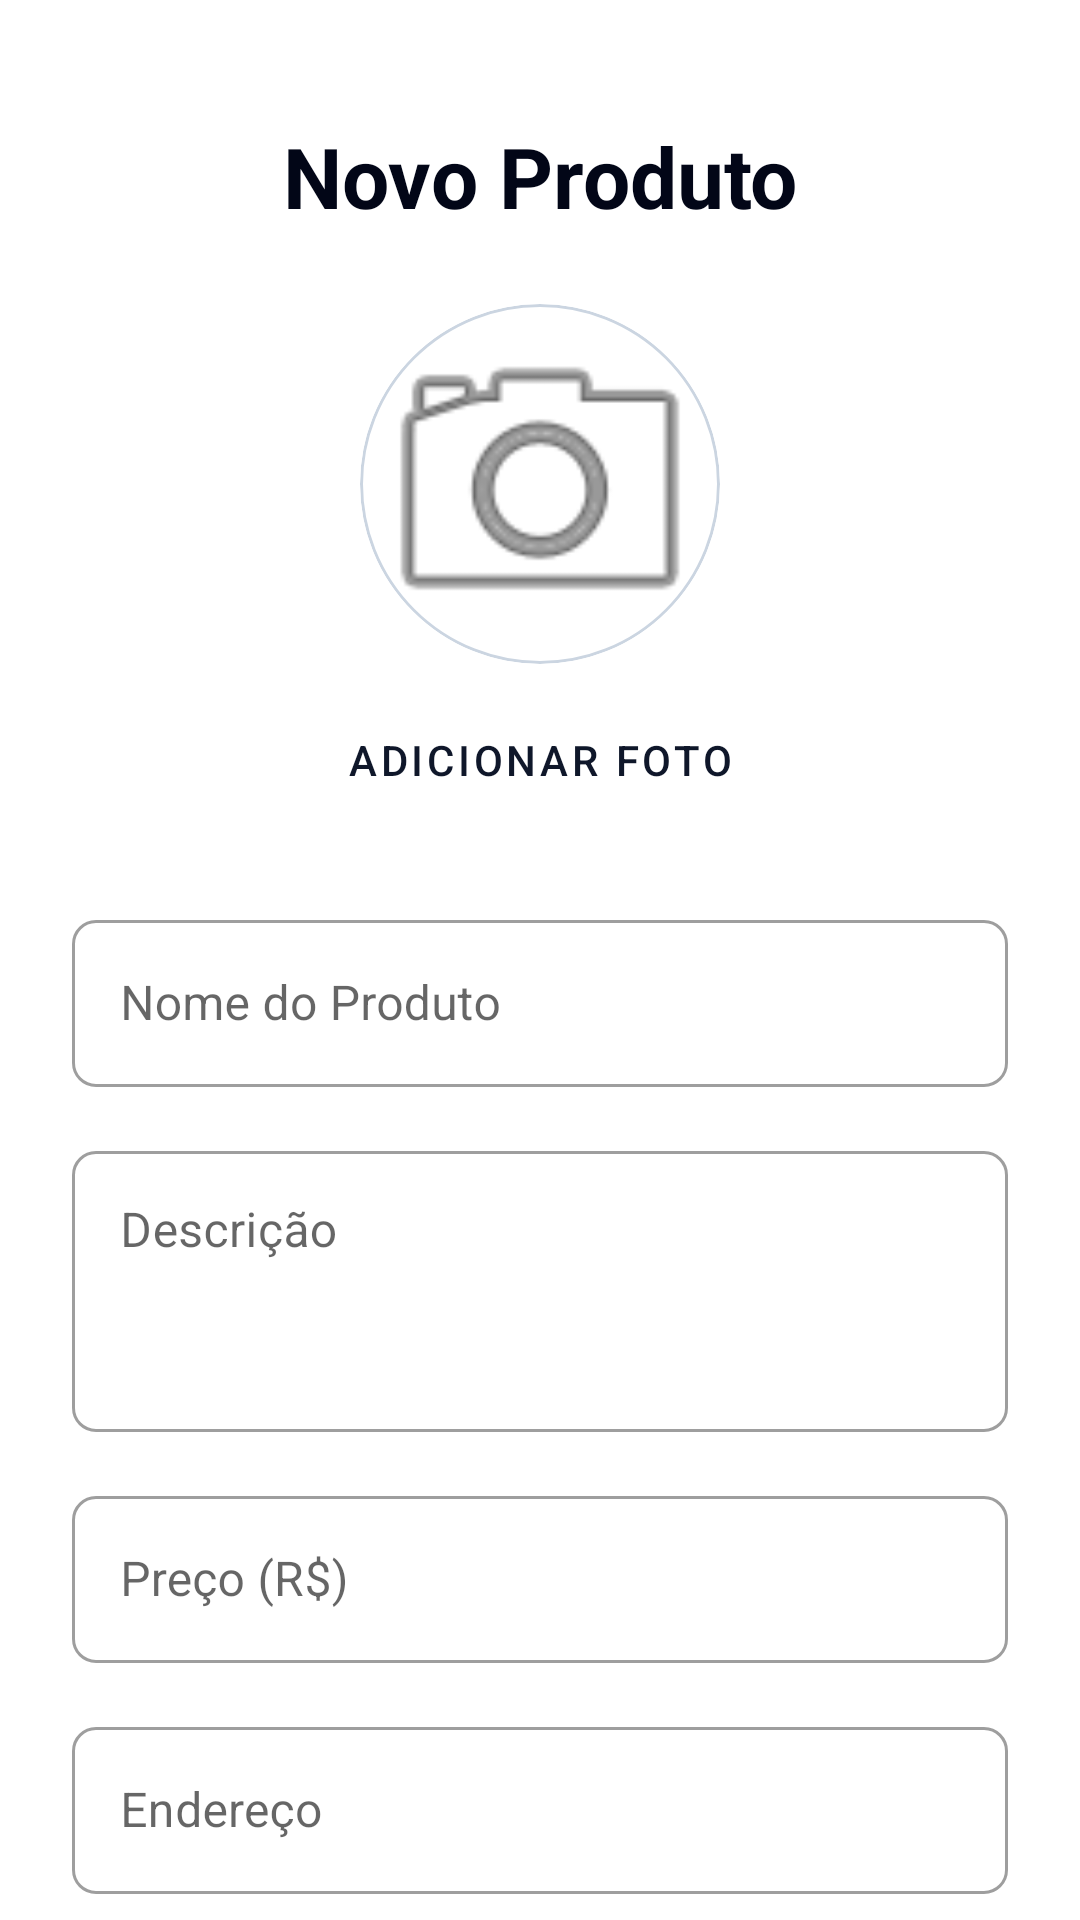

Named icons in this screenshot (1080px x 1920px) and their centers, [x,y]:
Store Photo: [540,484]
